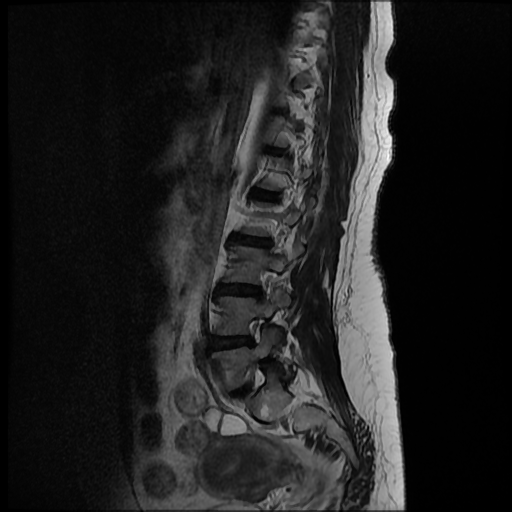RFS0: (235, 307, 273, 353)
